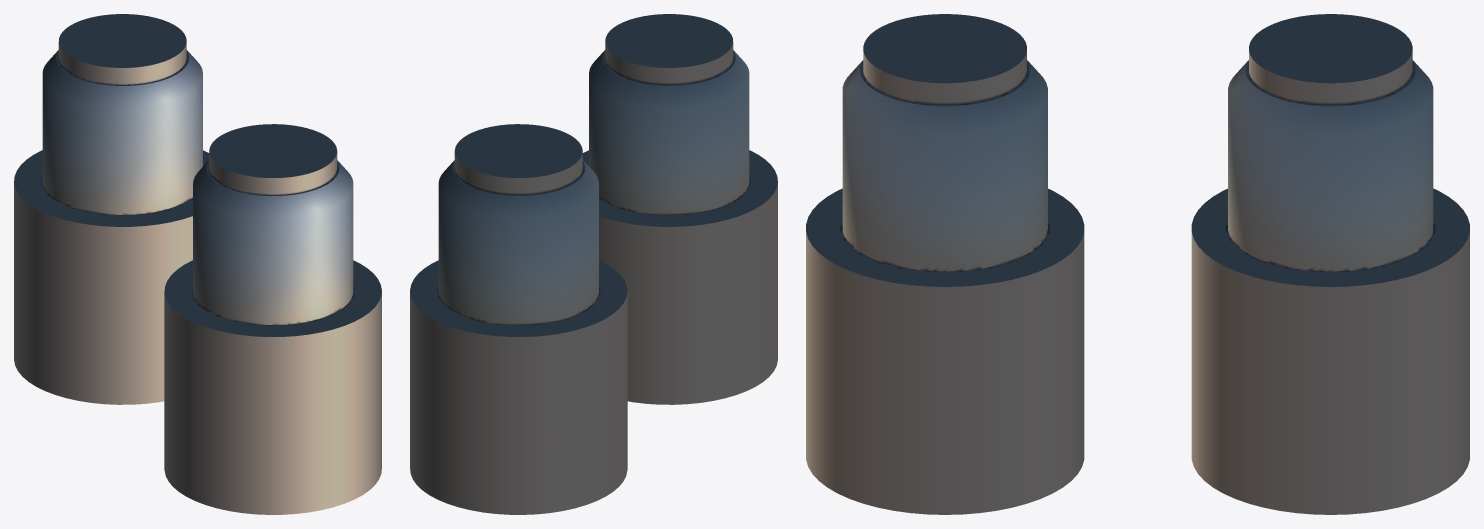
File: dizuo_4.glb
3 renders of one model, left to right at view 1: azimuth 30°, elevation 25°; view 2: azimuth 150°, elevation 25°; view 3: azimuth 270°, elevation 25°, orthographic. The views are drawn at different scales.
Visible parts, largest first — view 1: 圆柱_1; view 2: 圆柱_1; view 3: 圆柱_1.
Part boxes in pixels (x1,y1,x2,y2): 圆柱_1: (14,14,381,514); 圆柱_1: (410,14,777,514); 圆柱_1: (806,14,1469,514).
Bounding box in the file's own units: 1.66 × 2.68 × 3.96.
1 material, 1 textured.
